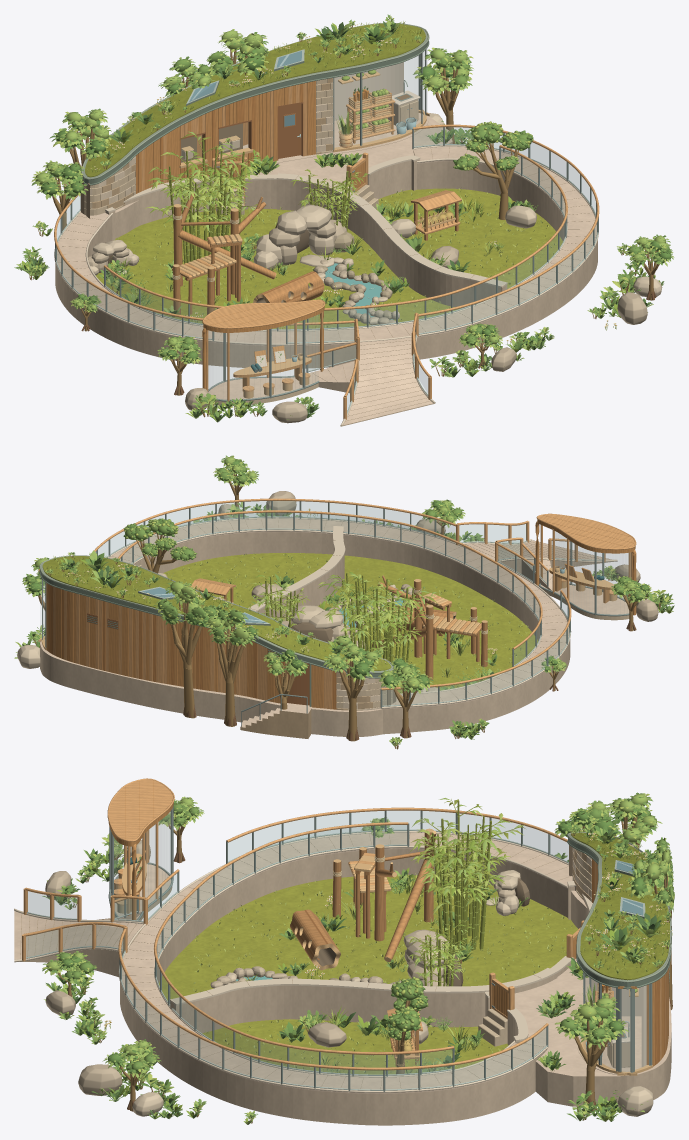
The picture shows the model from 3 angles, top to bottom: view 1: azimuth 30°, elevation 25°; view 2: azimuth 150°, elevation 25°; view 3: azimuth 270°, elevation 25°; orthographic projection. The views are drawn at different scales.
Visible parts, largest first — view 1: B03 | 环廊玻璃、压槽、立柱与木扶手, E01 | 两座独立栖息院 · 园内草地与土层, B02 | 逐段铺装与弧形压边, F02 | 分枝乔木 · 树冠与复叶, B01 | 架高观景环道 · 承重基墙, D02 | 导览亭 · 玻璃弧墙与低基脚, F03 | 双组竹林 · 节秆与披针叶, A02 | 种植屋面与包边, C01 | S形分院挡墙与分段压顶, A04 | 连续木立面 · 分板和窗洞, A09 | 圆头备餐间 · 弧形玻璃与框架, F05 | 蕨类、溪岸草与地被 (+28 smaller); view 2: B03 | 环廊玻璃、压槽、立柱与木扶手, A08 | 背立面补全 · 封闭外墙与高窗, E01 | 两座独立栖息院 · 园内草地与土层, B01 | 架高观景环道 · 承重基墙, F02 | 分枝乔木 · 树冠与复叶, B02 | 逐段铺装与弧形压边, A03 | 后勤馆楼地面与闭合地基, F03 | 双组竹林 · 节秆与披针叶, F01 | 分枝乔木 · 树干, D02 | 导览亭 · 玻璃弧墙与低基脚, A02 | 种植屋面与包边, G03 | 攀爬原木、双平台与缠绳 (+21 smaller); view 3: E01 | 两座独立栖息院 · 园内草地与土层, B03 | 环廊玻璃、压槽、立柱与木扶手, B01 | 架高观景环道 · 承重基墙, B02 | 逐段铺装与弧形压边, F02 | 分枝乔木 · 树冠与复叶, C01 | S形分院挡墙与分段压顶, F03 | 双组竹林 · 节秆与披针叶, C04 | 后勤连接平台与弧形基座, F05 | 蕨类、溪岸草与地被, A02 | 种植屋面与包边, F04 | 地面灌木与宽叶植物, B05 | 入口双侧木扶手与安全玻璃 (+23 smaller).
Boxes of the visible parts, box(x1,y1,x2,y2) form: B03 | 环廊玻璃、压槽、立柱与木扶手: box(54, 124, 599, 344); E01 | 两座独立栖息院 · 园内草地与土层: box(96, 188, 562, 329); B02 | 逐段铺装与弧形压边: box(54, 145, 598, 346); F02 | 分枝乔木 · 树冠与复叶: box(31, 29, 674, 364); B01 | 架高观景环道 · 承重基墙: box(55, 161, 597, 368); D02 | 导览亭 · 玻璃弧墙与低基脚: box(206, 312, 323, 405); F03 | 双组竹林 · 节秆与披针叶: box(144, 131, 368, 263); A02 | 种植屋面与包边: box(85, 23, 425, 177); C01 | S形分院挡墙与分段压顶: box(276, 173, 507, 308); A04 | 连续木立面 · 分板和窗洞: box(135, 81, 315, 193); A09 | 圆头备餐间 · 弧形玻璃与框架: box(333, 49, 429, 152); F05 | 蕨类、溪岸草与地被: box(31, 124, 643, 416); B03 | 环廊玻璃、压槽、立柱与木扶手: box(90, 498, 571, 708); A08 | 背立面补全 · 封闭外墙与高窗: box(46, 583, 336, 709); E01 | 两座独立栖息院 · 园内草地与土层: box(163, 553, 538, 693); B01 | 架高观景环道 · 承重基墙: box(135, 532, 570, 734); F02 | 分枝乔木 · 树冠与复叶: box(22, 455, 651, 693); B02 | 逐段铺装与弧形压边: box(108, 517, 571, 709); A03 | 后勤馆楼地面与闭合地基: box(40, 640, 382, 736); F03 | 双组竹林 · 节秆与披针叶: box(249, 571, 437, 676); F01 | 分枝乔木 · 树干: box(38, 474, 638, 741); D02 | 导览亭 · 玻璃弧墙与低基脚: box(538, 525, 633, 620); A02 | 种植屋面与包边: box(42, 556, 391, 670); G03 | 攀爬原木、双平台与缠绳: box(372, 575, 487, 679); E01 | 两座独立栖息院 · 园内草地与土层: box(158, 875, 578, 1074); B03 | 环廊玻璃、压槽、立柱与木扶手: box(118, 807, 568, 1091); B01 | 架高观景环道 · 承重基墙: box(120, 849, 567, 1125); B02 | 逐段铺装与弧形压边: box(118, 831, 572, 1093); F02 | 分枝乔木 · 树冠与复叶: box(42, 792, 674, 1078); C01 | S形分院挡墙与分段压顶: box(170, 968, 557, 1033); F03 | 双组竹林 · 节秆与披针叶: box(408, 798, 525, 986); C04 | 后勤连接平台与弧形基座: box(514, 958, 671, 1106); F05 | 蕨类、溪岸草与地被: box(60, 848, 635, 1124); A02 | 种植屋面与包边: box(571, 832, 669, 980); F04 | 地面灌木与宽叶植物: box(42, 833, 647, 1123); B05 | 入口双侧木扶手与安全玻璃: box(22, 887, 147, 961).
Bounding box in the file's own units: 23.7 × 6.36 × 23.9.
57 materials, 13 textured.
